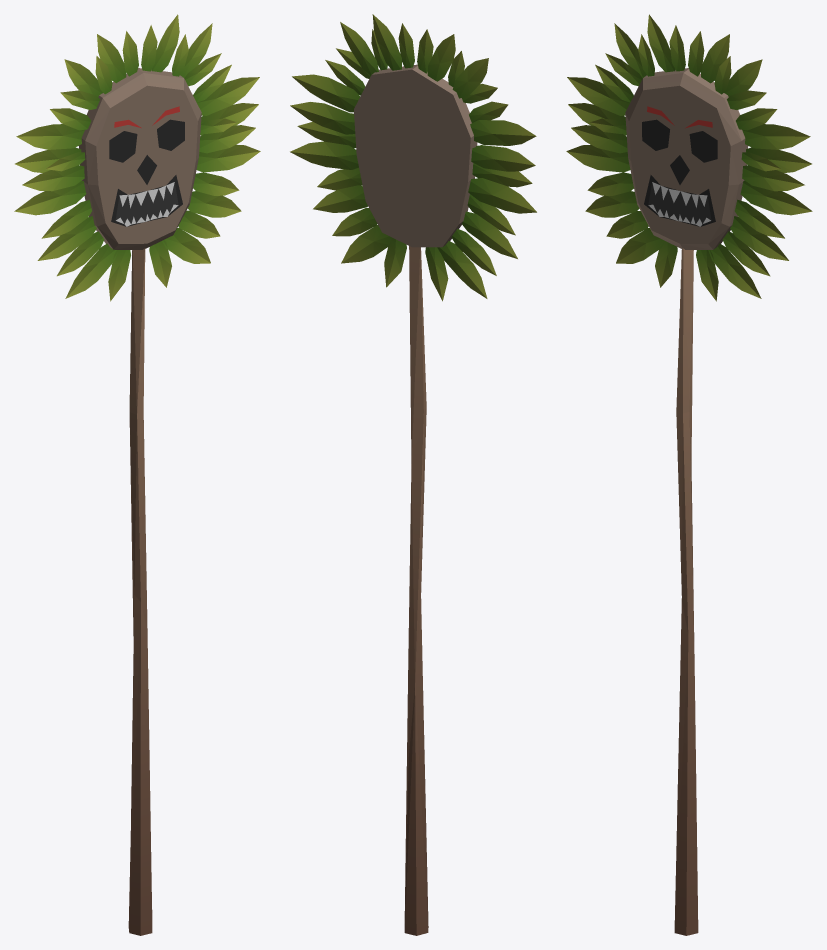
The model's file is Mask_02.fbx.
3 renders of one model, left to right at view 1: azimuth 30°, elevation 25°; view 2: azimuth 150°, elevation 25°; view 3: azimuth 330°, elevation 25°, orthographic.
Parts seen in each view (by area): view 1: Mask_02; view 2: Mask_02; view 3: Mask_02.
Boxes of the visible parts, x1,y1,x2,y2 form: Mask_02: (14,14,260,935); Mask_02: (290,14,536,935); Mask_02: (566,14,812,935).
Bounding box in the file's own units: 43.94 × 154 × 3.85.
